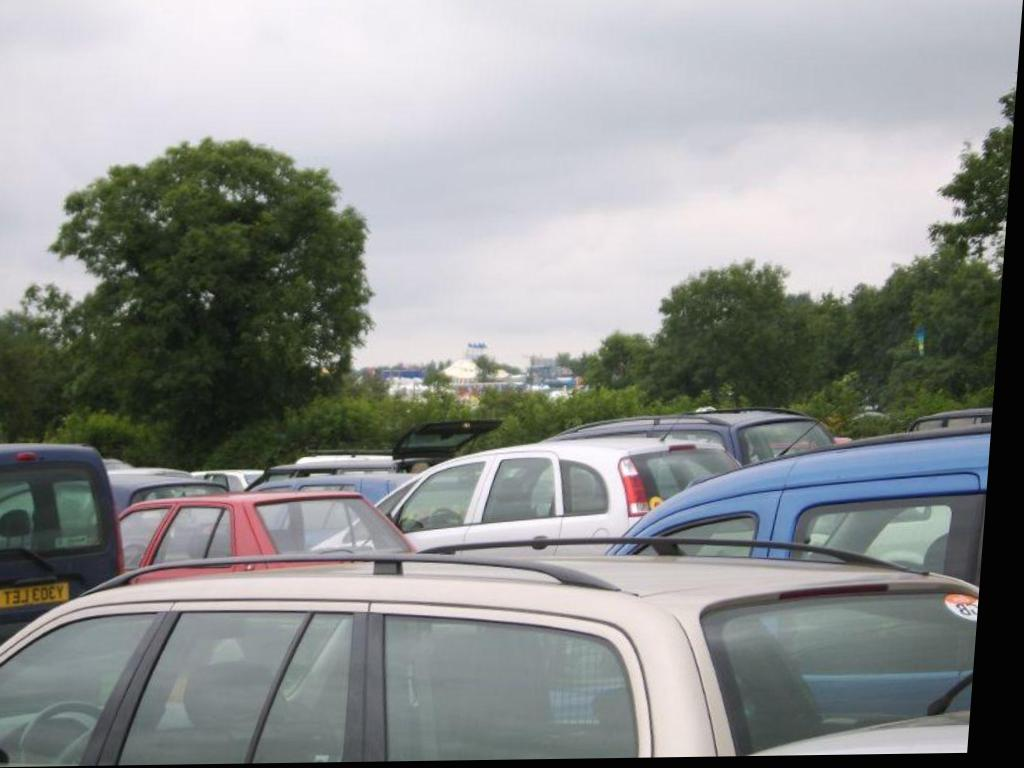License_Plate: (0, 578, 68, 609)
